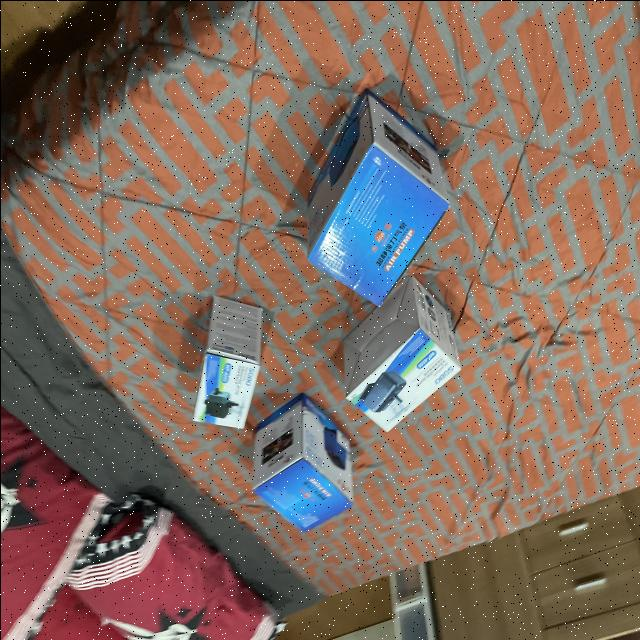SOBO_WP_4200: (329, 282, 461, 434), (185, 292, 266, 436)
YAMANO_LPP_20: (282, 82, 463, 310), (250, 392, 358, 536)
